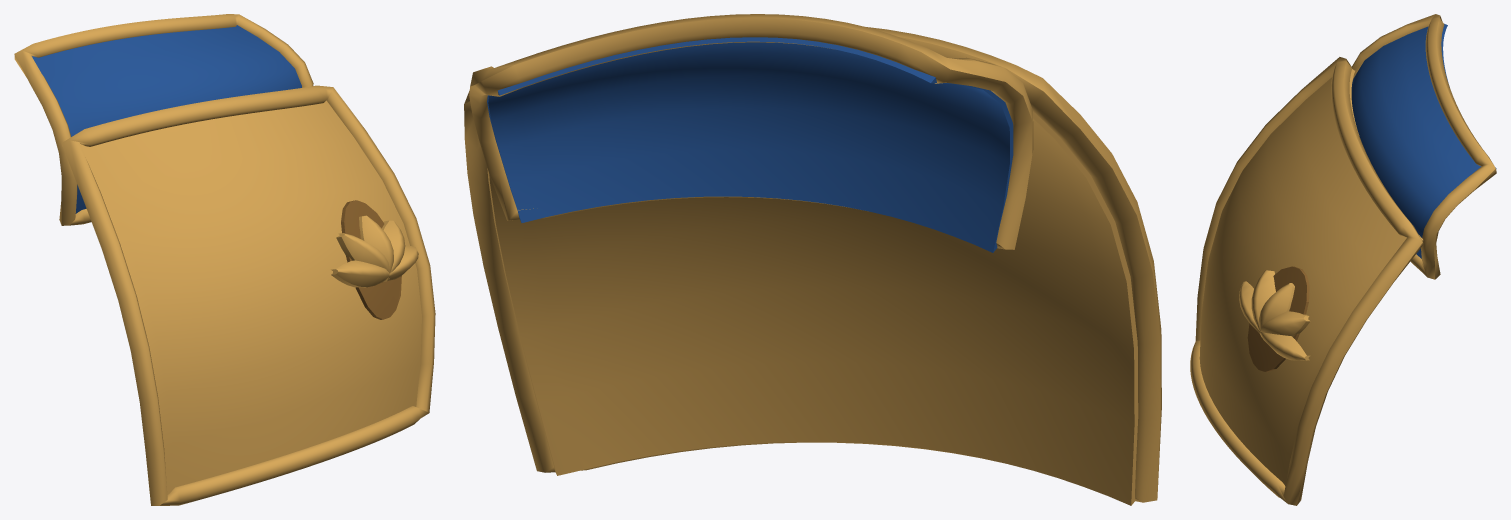
Rendered from shoulder-armour-mid.glb.
The picture shows the model from 3 angles, left to right: view 1: azimuth 30°, elevation 25°; view 2: azimuth 150°, elevation 25°; view 3: azimuth 270°, elevation 25°; orthographic projection. The views are drawn at different scales.
Parts seen in each view (by area): view 1: OriginalLeftShoulderArmour; view 2: OriginalLeftShoulderArmour; view 3: OriginalLeftShoulderArmour.
Boxes of the visible parts, x1=… form: OriginalLeftShoulderArmour: x1=14, y1=14, x2=435, y2=505; OriginalLeftShoulderArmour: x1=464, y1=14, x2=1161, y2=505; OriginalLeftShoulderArmour: x1=1190, y1=14, x2=1496, y2=505.
Bounding box in the file's own units: 0.1064 × 0.1121 × 0.0884.
